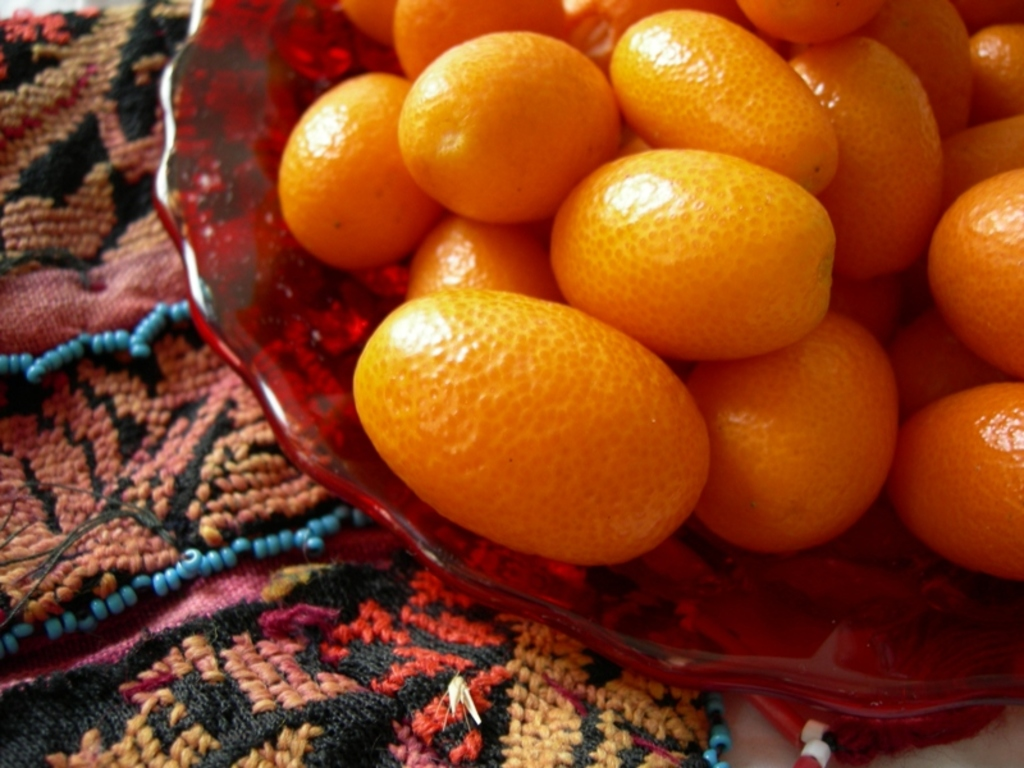Ripe: (352, 296, 704, 562), (544, 128, 840, 355), (691, 320, 883, 543), (773, 42, 952, 275), (612, 10, 835, 197), (403, 31, 622, 218), (282, 74, 429, 264), (887, 394, 1023, 579), (928, 164, 1023, 357), (397, 0, 564, 74), (876, 0, 966, 128), (403, 221, 548, 300), (966, 18, 1023, 128), (744, 0, 855, 46), (961, 109, 1019, 197)
